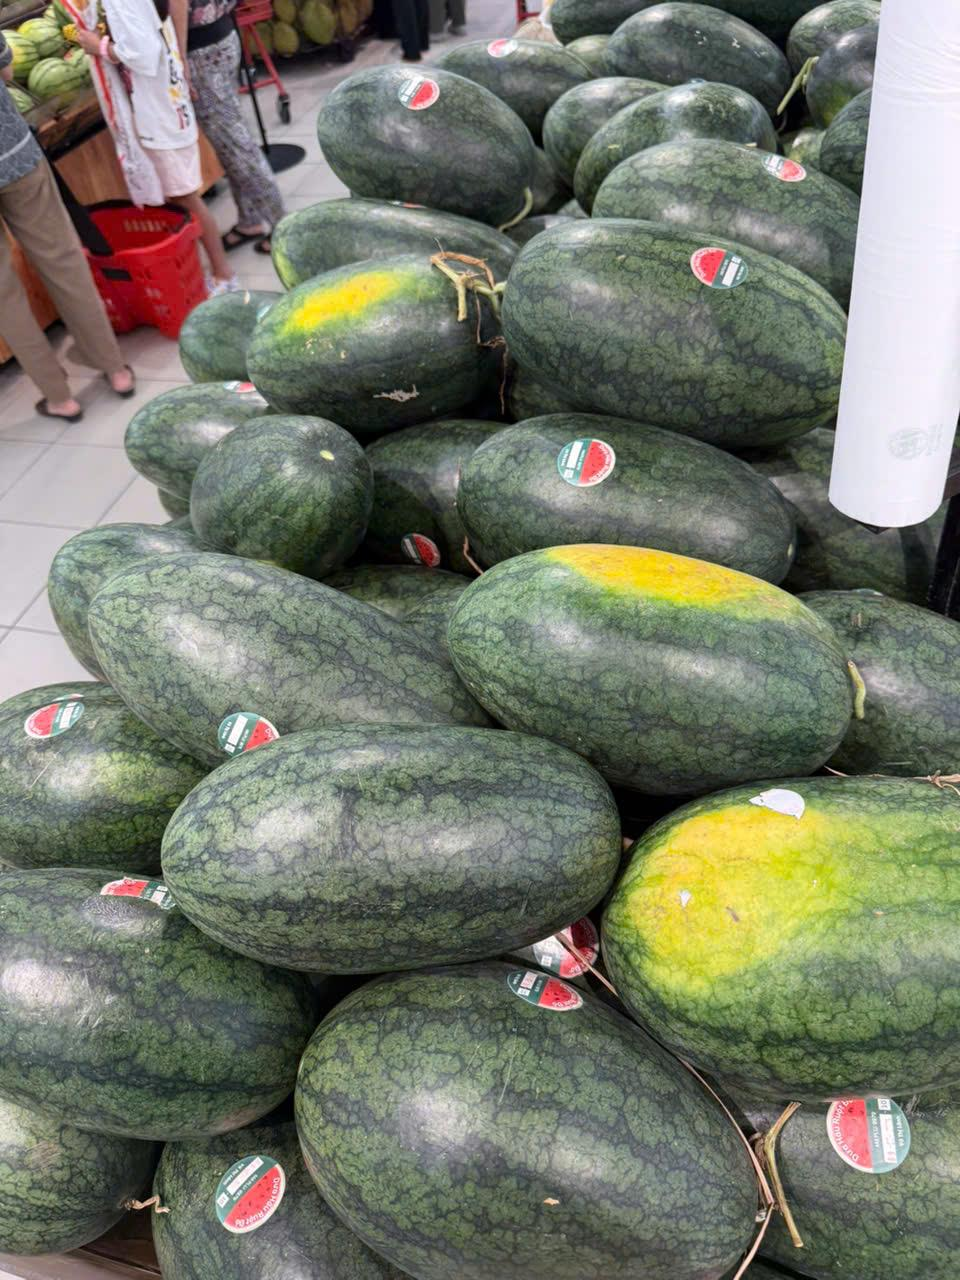watermelon: (290, 945, 762, 1280), (568, 763, 960, 1085), (419, 530, 880, 798), (157, 716, 628, 966), (0, 868, 298, 1138), (480, 216, 850, 429), (90, 558, 462, 770), (453, 415, 822, 573), (247, 243, 504, 423), (760, 1068, 960, 1280), (313, 58, 562, 220), (145, 1116, 388, 1280), (602, 133, 866, 275), (188, 415, 372, 573)
